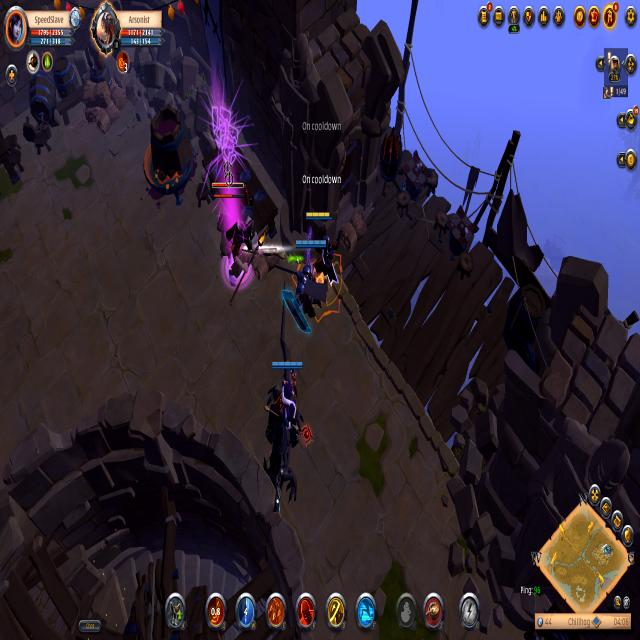ore: (209, 168, 258, 298)
red: (282, 238, 329, 336), (269, 356, 306, 450), (304, 207, 340, 283)
silver: (288, 253, 348, 322)
